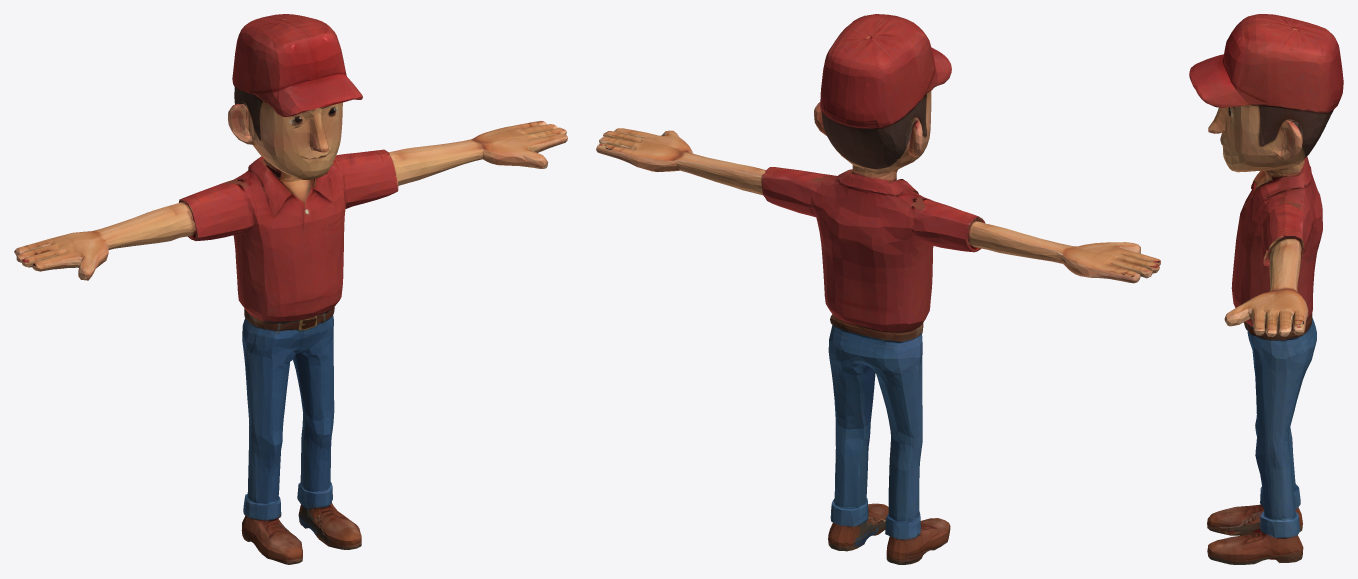
Rendered from Richard_0422072618_texture.fbx.
3 renders of one model, left to right at view 1: azimuth 30°, elevation 25°; view 2: azimuth 150°, elevation 25°; view 3: azimuth 270°, elevation 25°, orthographic. The views are drawn at different scales.
Parts seen in each view (by area): view 1: temp; view 2: temp; view 3: temp.
Part boxes in pixels (bbox=[...]): temp: bbox=[14, 14, 567, 564]; temp: bbox=[596, 14, 1160, 564]; temp: bbox=[1189, 14, 1343, 564].
Size of the model in its own units: 200 by 180 by 48.38.
Materials: 1 (1 with a texture image).
